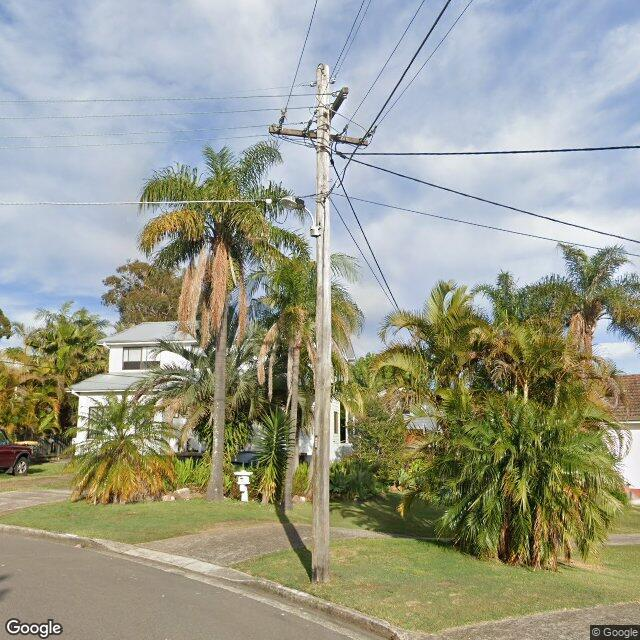crossarm: (267, 126, 369, 148), (329, 86, 350, 122)
streetlight: (279, 196, 320, 238)
timber-pole: (312, 63, 332, 586)
